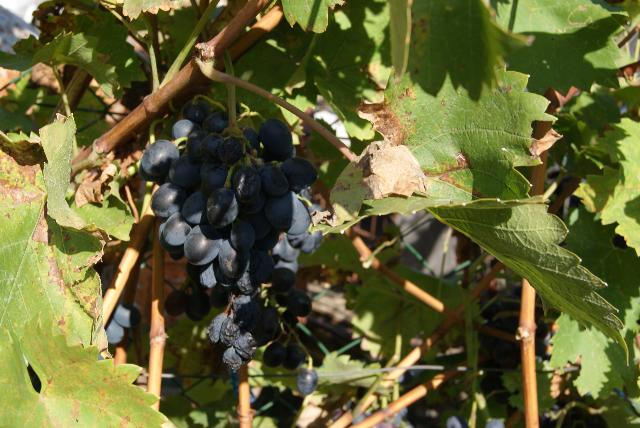grapes: (139, 102, 321, 372)
